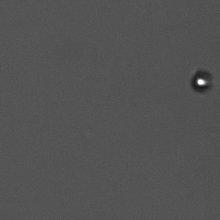Living Cell: (187, 68, 213, 93)
